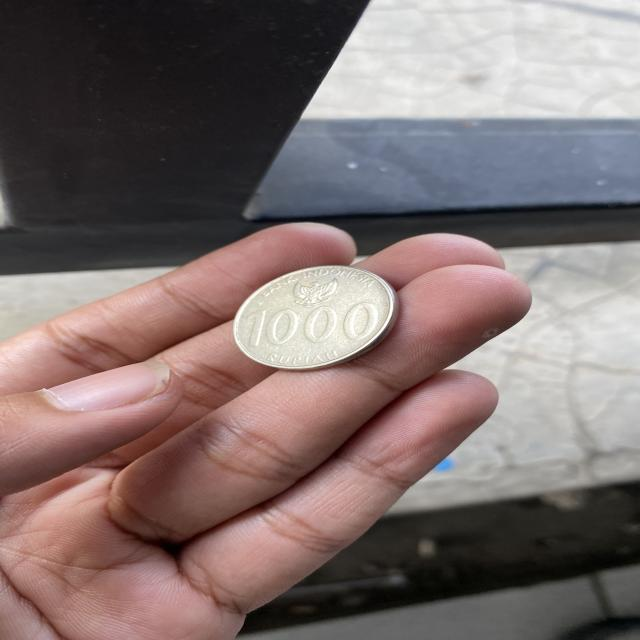1000-angklung: (233, 265, 398, 370)
